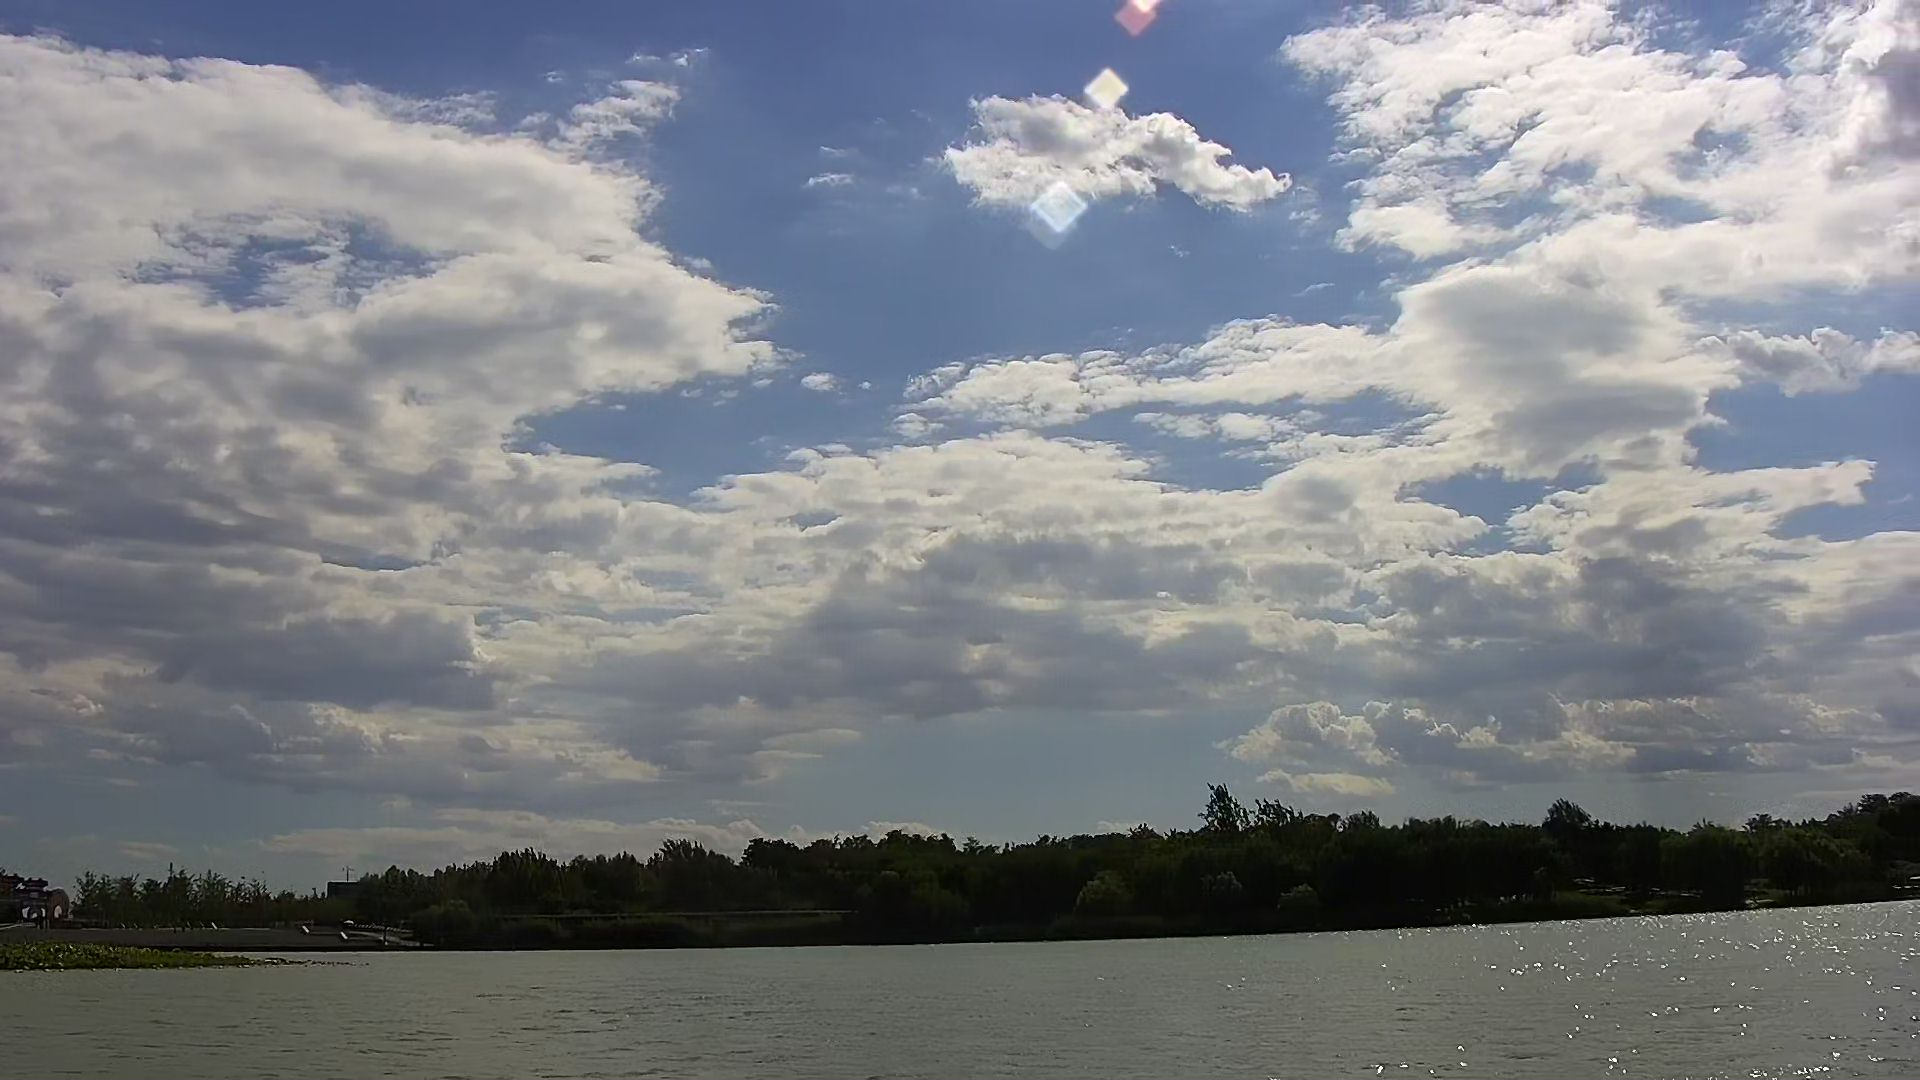harbor: (76, 909, 421, 955)
